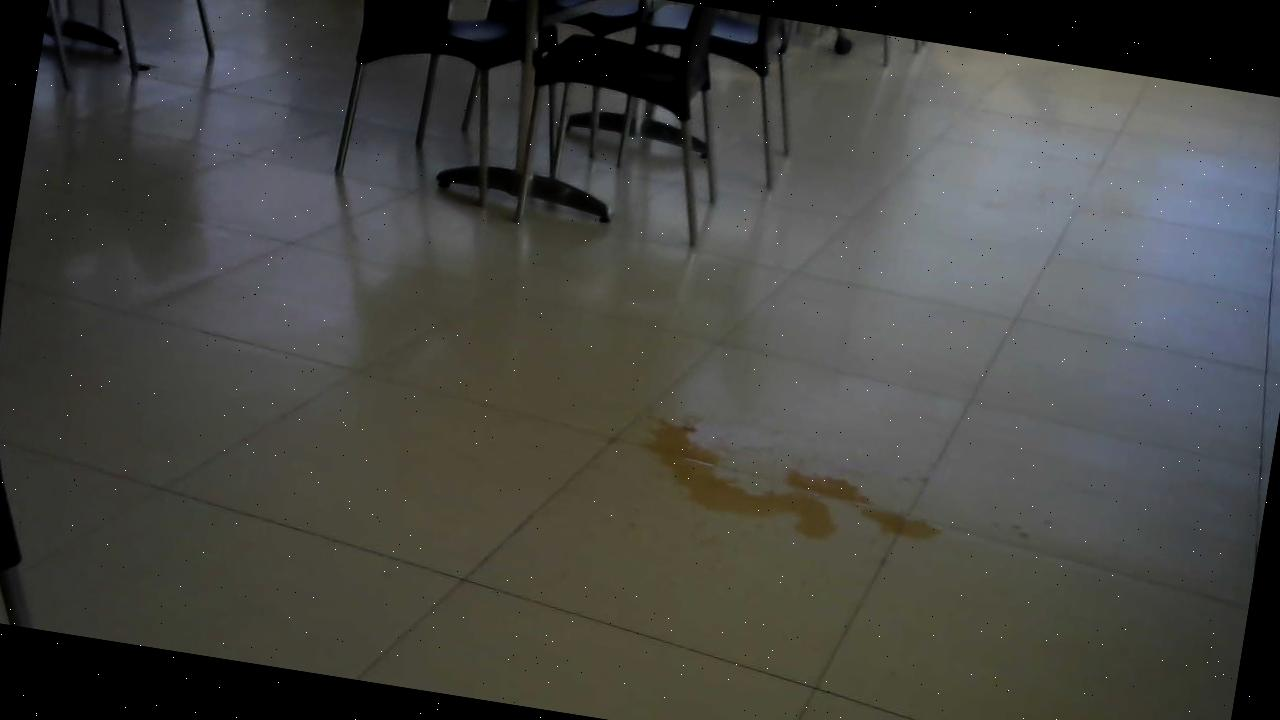dirty_floor: (617, 384, 958, 576)
